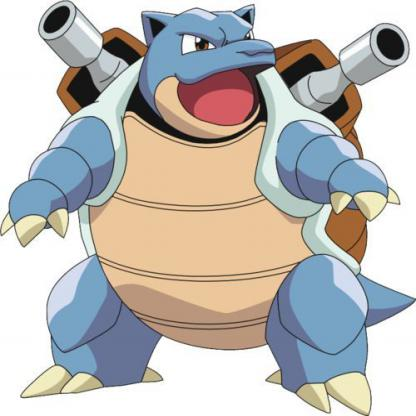Blastoise: (16, 1, 416, 416)
